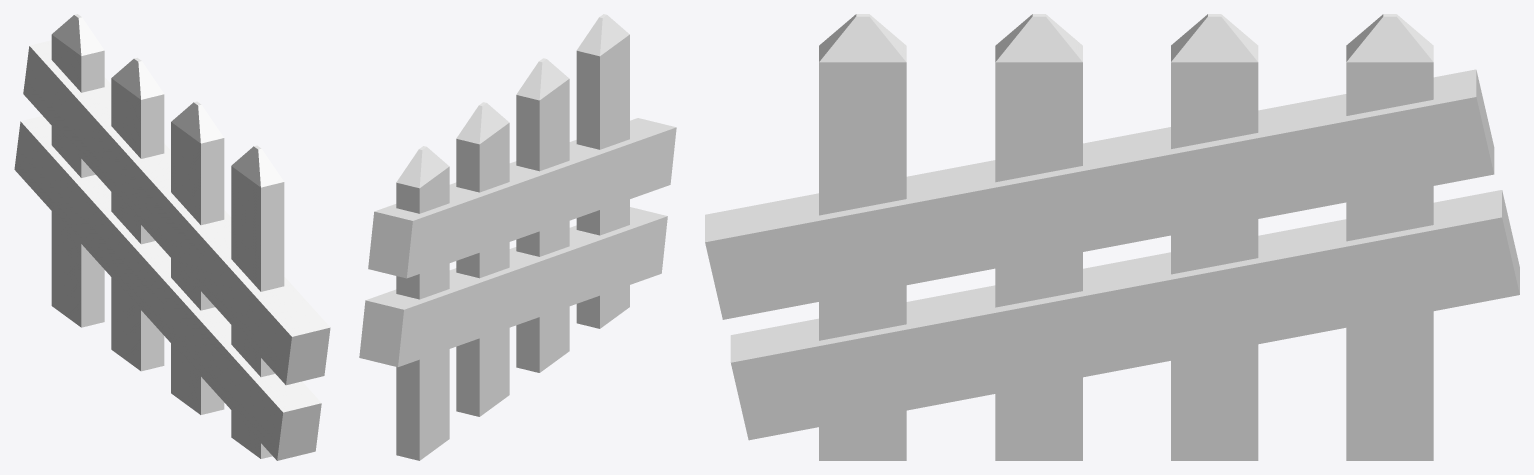
File: fence.fbx
3 views of the same model, side by side, from view 1: azimuth 30°, elevation 25°; view 2: azimuth 150°, elevation 25°; view 3: azimuth 270°, elevation 25° (orthographic). The views are drawn at different scales.
Parts seen in each view (by area): view 1: fence; view 2: fence; view 3: fence.
Boxes of the visible parts, x1,y1,x2,y2 form: fence: [14, 14, 330, 460]; fence: [359, 14, 676, 460]; fence: [705, 14, 1519, 460].
Bounding box in the file's own units: 74.35 × 549 × 927.
1 material, 1 textured.
